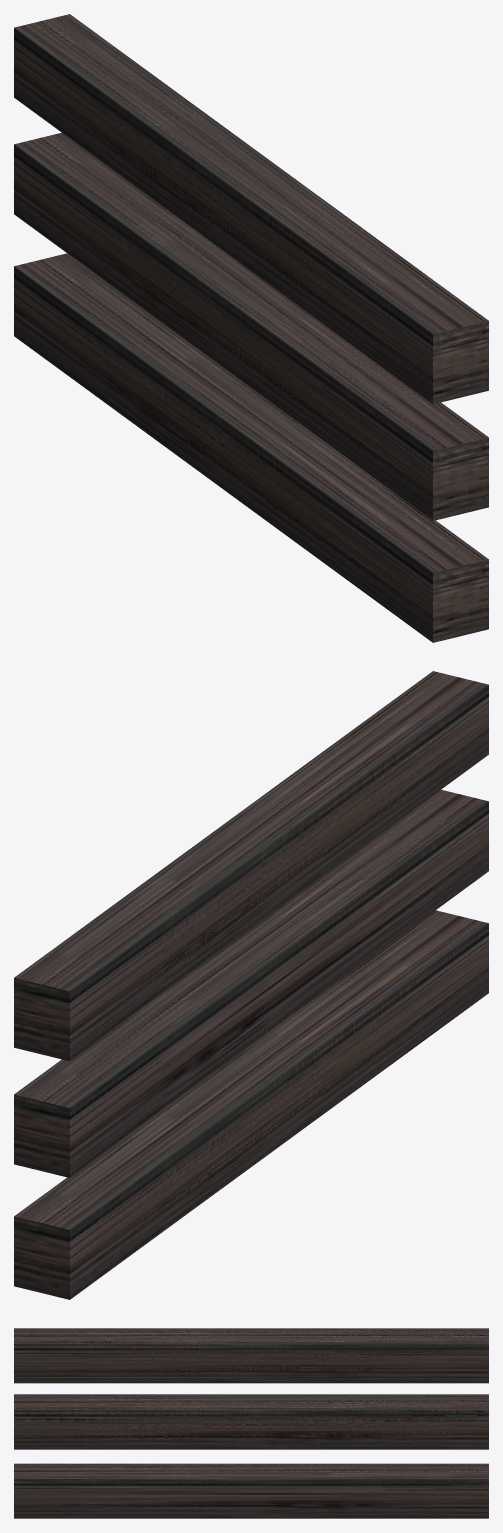
File: FenceMiddle.fbx
3 renders of one model, top to bottom at view 1: azimuth 30°, elevation 25°; view 2: azimuth 150°, elevation 25°; view 3: azimuth 270°, elevation 25°, orthographic. The views are drawn at different scales.
Parts seen in each view (by area): view 1: Cube.001; view 2: Cube.001; view 3: Cube.001.
Part boxes in pixels (<box>): Cube.001: <box>14,14,488,642</box>; Cube.001: <box>14,671,488,1299</box>; Cube.001: <box>14,1328,488,1518</box>.
Bounding box in the file's own units: 79.01 × 417 × 1026.
Materials: 1 (1 with a texture image).
